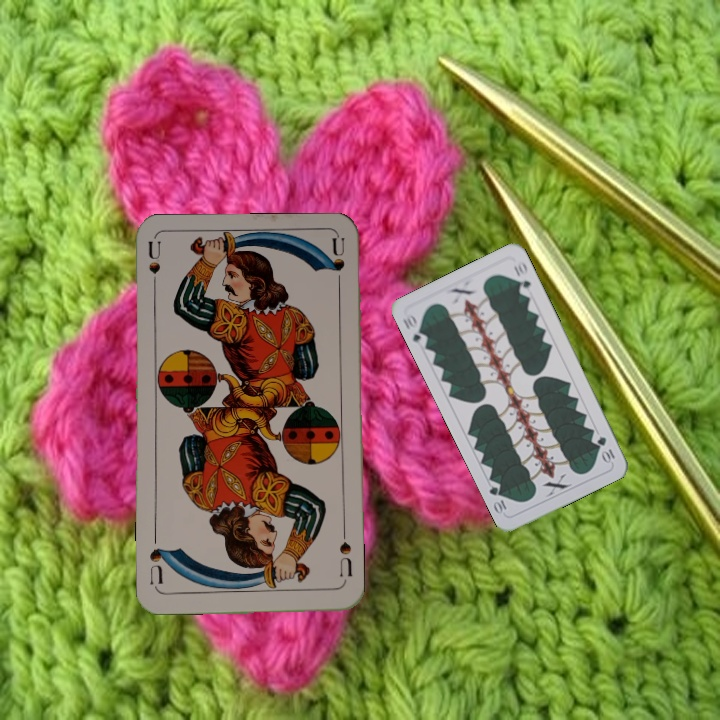G10: (398, 309, 430, 349), (593, 432, 617, 466)
SU: (144, 239, 163, 298), (336, 538, 355, 587)
